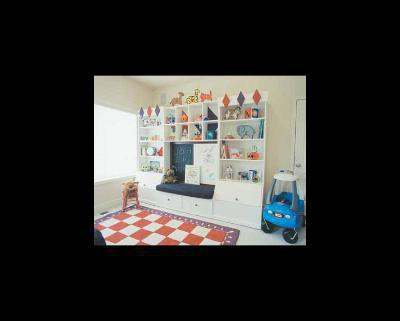Otro Obstaculo: (263, 174, 300, 241)
